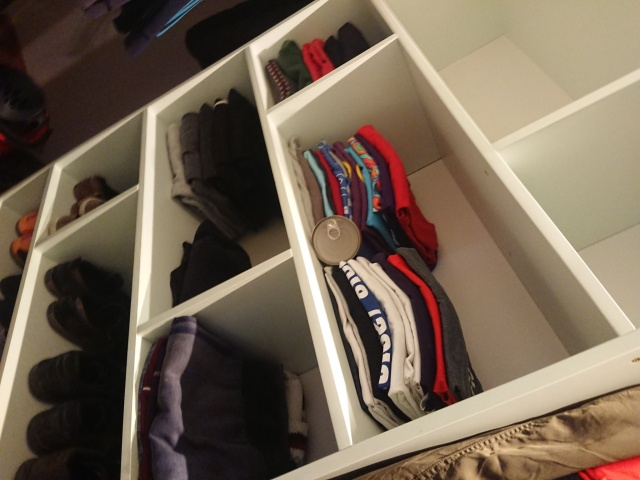Giana Tuna Salad Mexico 185g: (308, 213, 364, 268)
